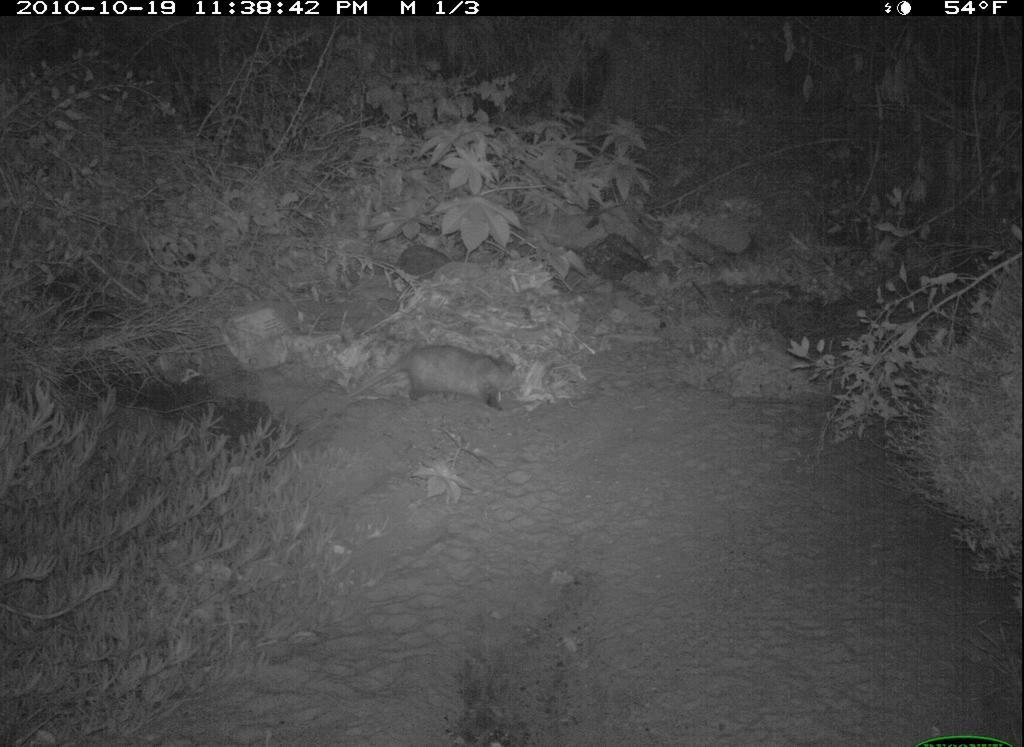opossum: (329, 341, 529, 417)
